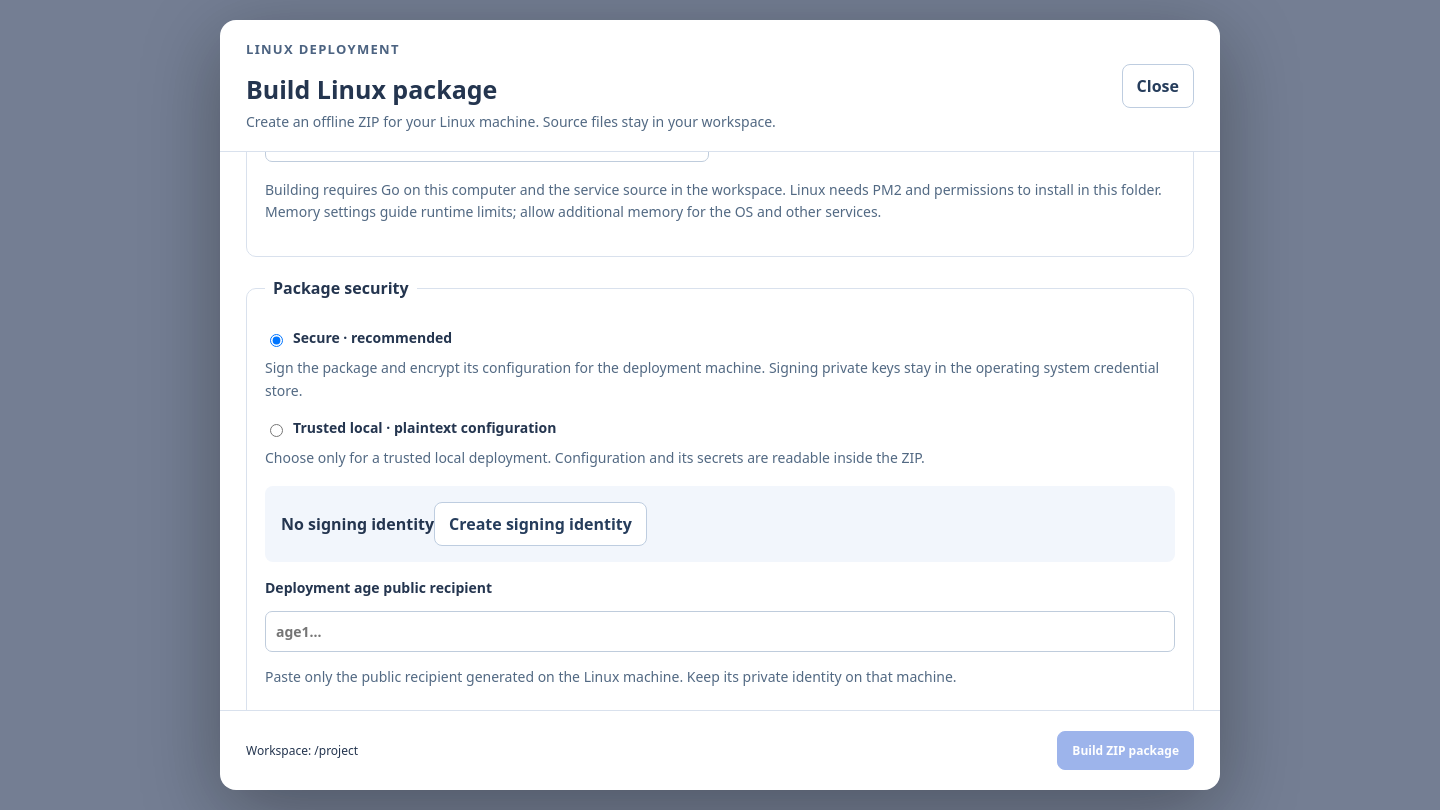
keeps a pending build visible, prevents duplicate submission and shows actual build results
(page scrolled)
Expected: the text "No signing identity" is shown, [281,512,434,534]
Click the radio button labelled "Trusted local · plaintext configuration" at (276, 431), box [270,424,283,437]
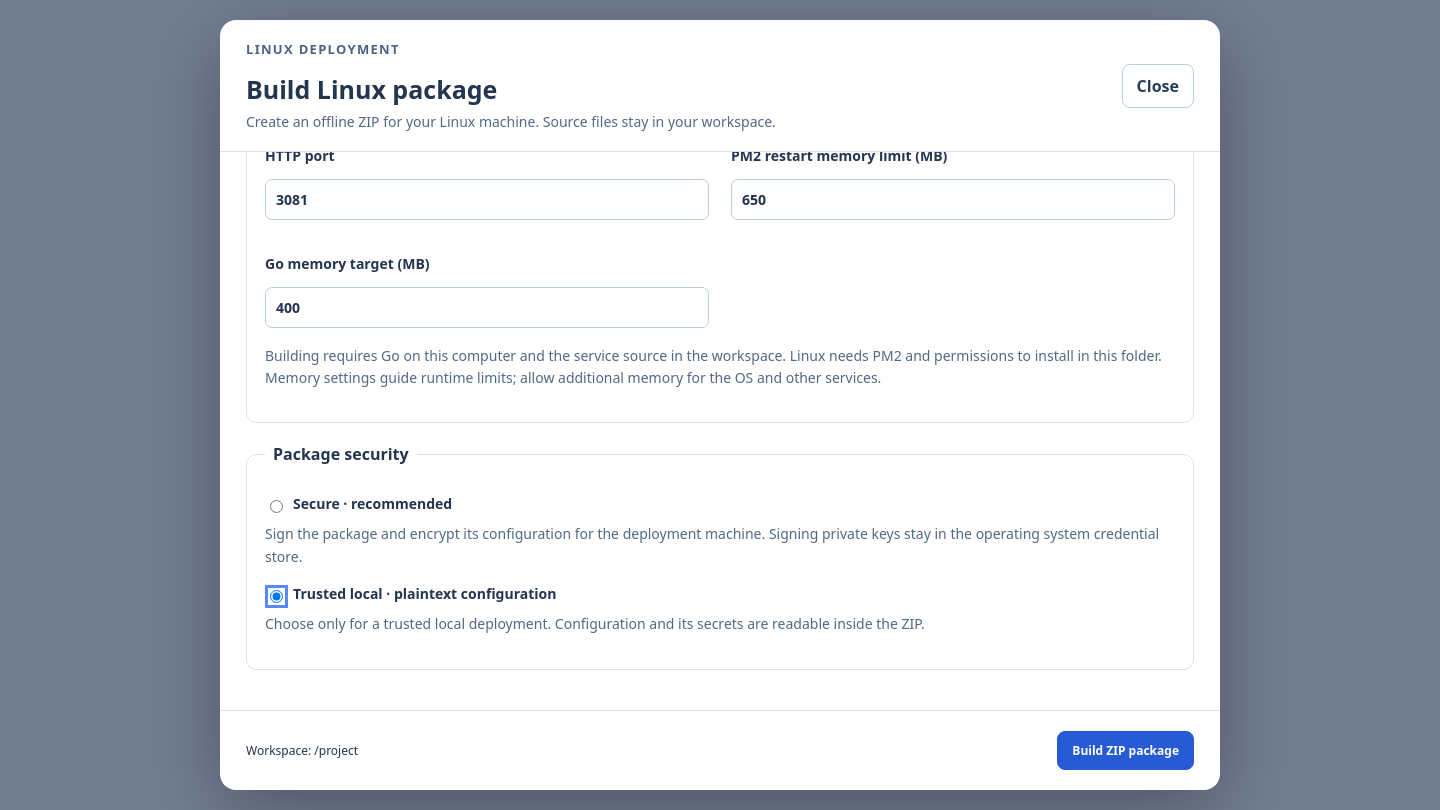
Click the button "Build ZIP package" at (1126, 750), box [1057,731,1194,770]
(page scrolled)
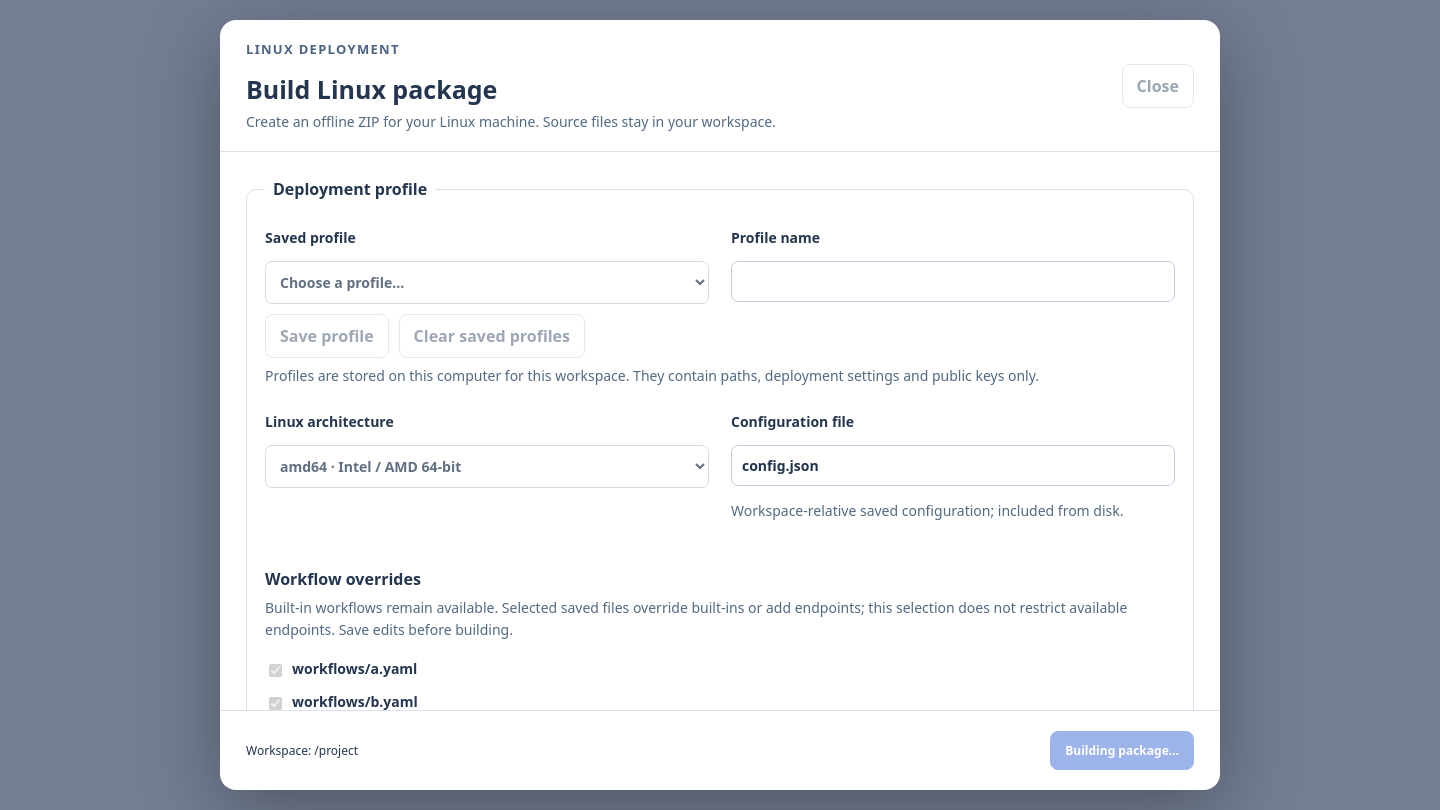
Expected: the button with aria-label "Close package builder" is disabled, [1122,64,1194,108]
Expected: the button "Save profile" is disabled, [265,314,389,358]
Press Escape
(page scrolled)
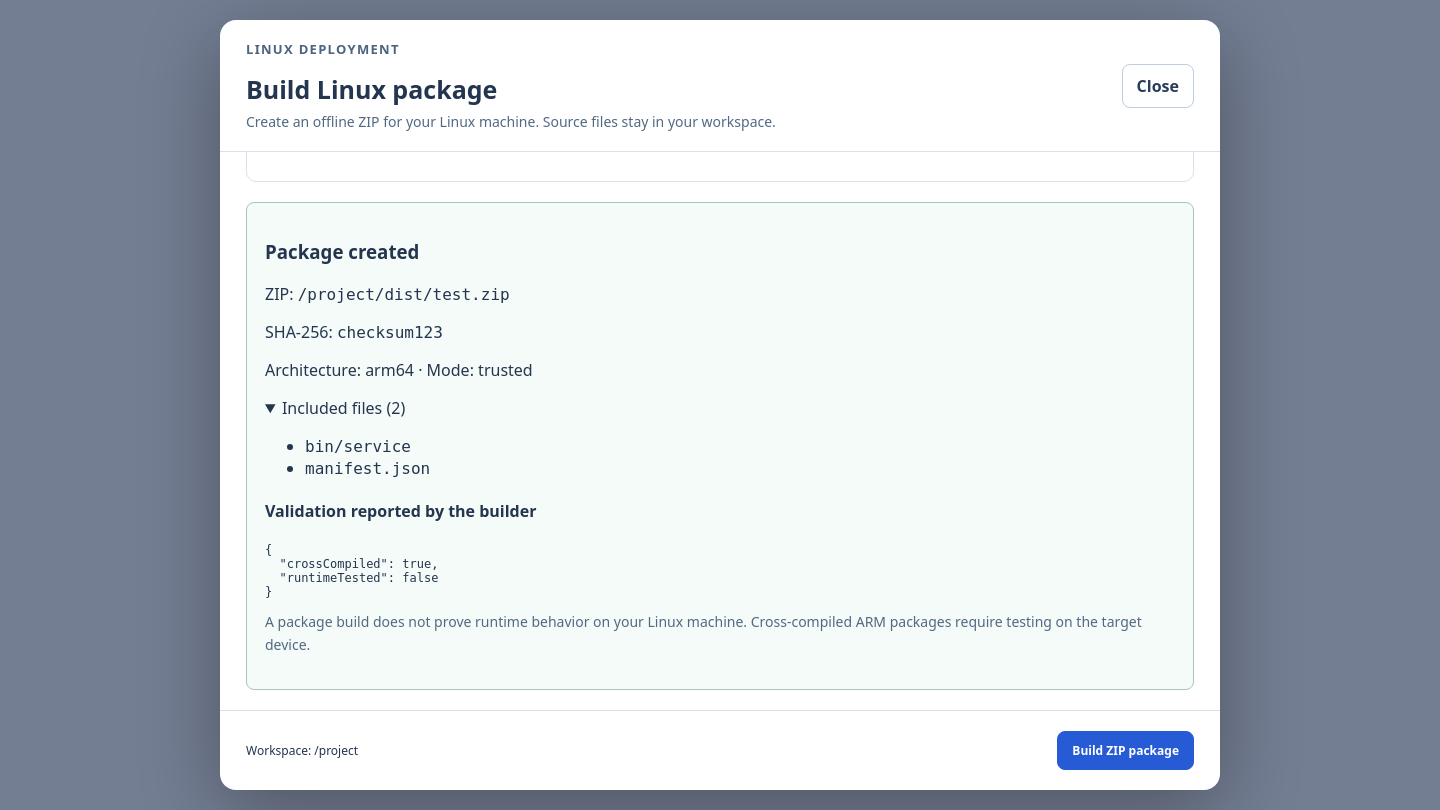
Expected: the heading "Package created" is shown, [265,239,419,264]
Expected: the text "/project/dist/test.zip" is shown, [298,285,510,304]
Expected: the text "checksum123" is shown, [337,323,443,342]
